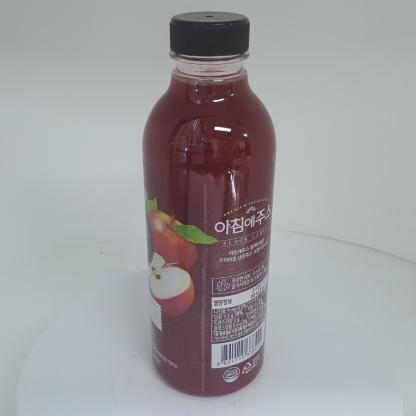--------------ABC--750ML: (142, 11, 276, 397)
